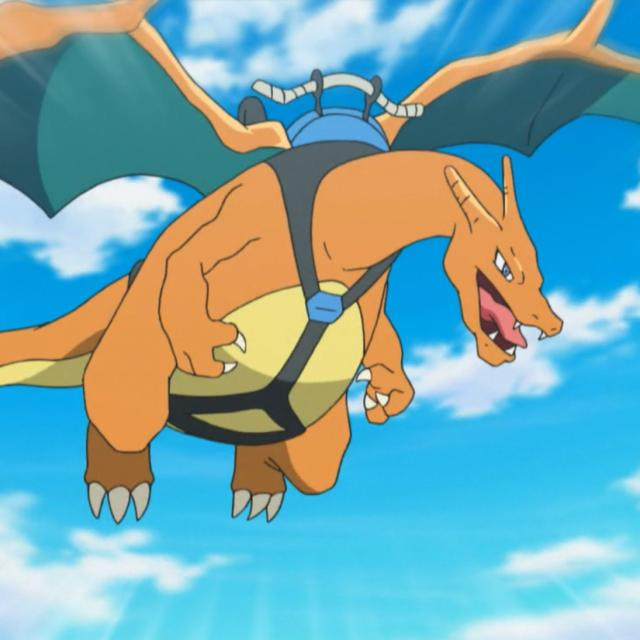Charizard: (83, 34, 568, 516)
